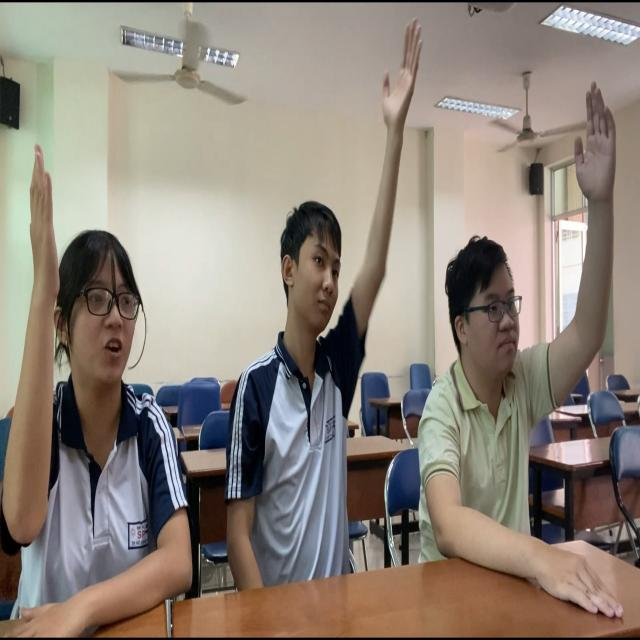raise_hand: (230, 14, 422, 610), (1, 148, 204, 640), (439, 84, 626, 594)
